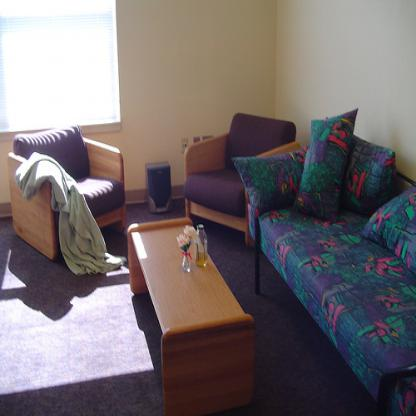bottle: (195, 222, 209, 267)
chair: (9, 123, 126, 260), (184, 110, 298, 246)
sofa: (231, 107, 415, 415)
